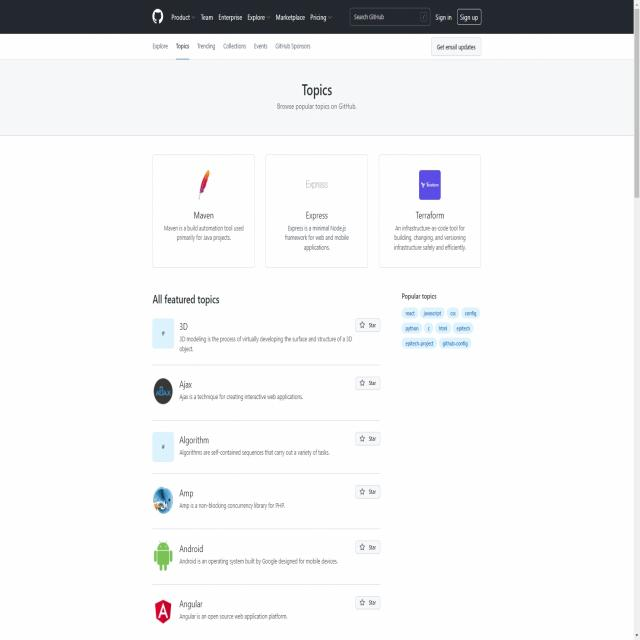menu-bar: (166, 4, 485, 29)
menu-panel: (147, 34, 316, 61)
search: (348, 5, 432, 31)
